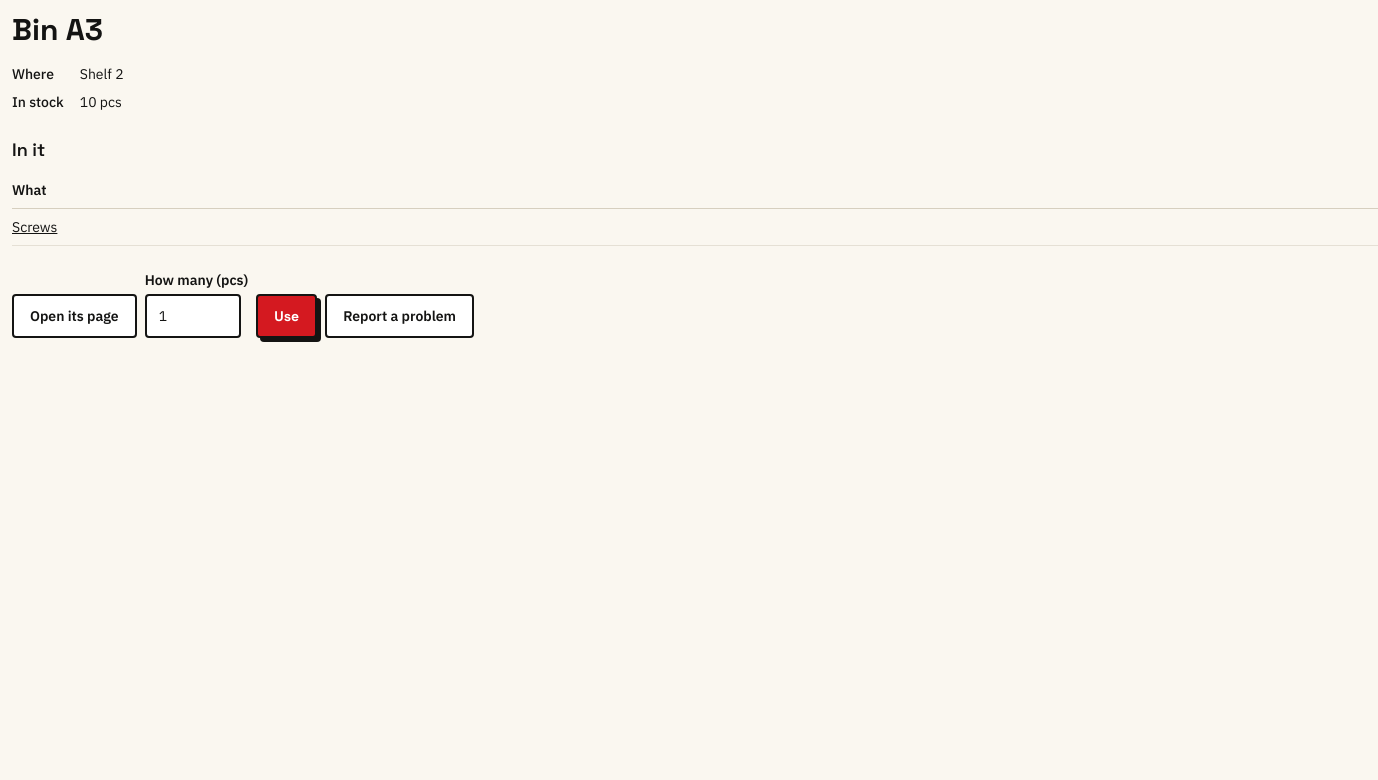
ScanPage › shows the template, and takes the quick actions it offers
Check: the text "Shelf 2" is shown, box x1=80 y1=65 x2=124 y2=83
Replace the text in the number field labelled "How many (pcs)" with "3": (193, 316) x1=145 y1=294 x2=241 y2=338
Click the button "Use": (287, 316) x1=256 y1=294 x2=317 y2=338
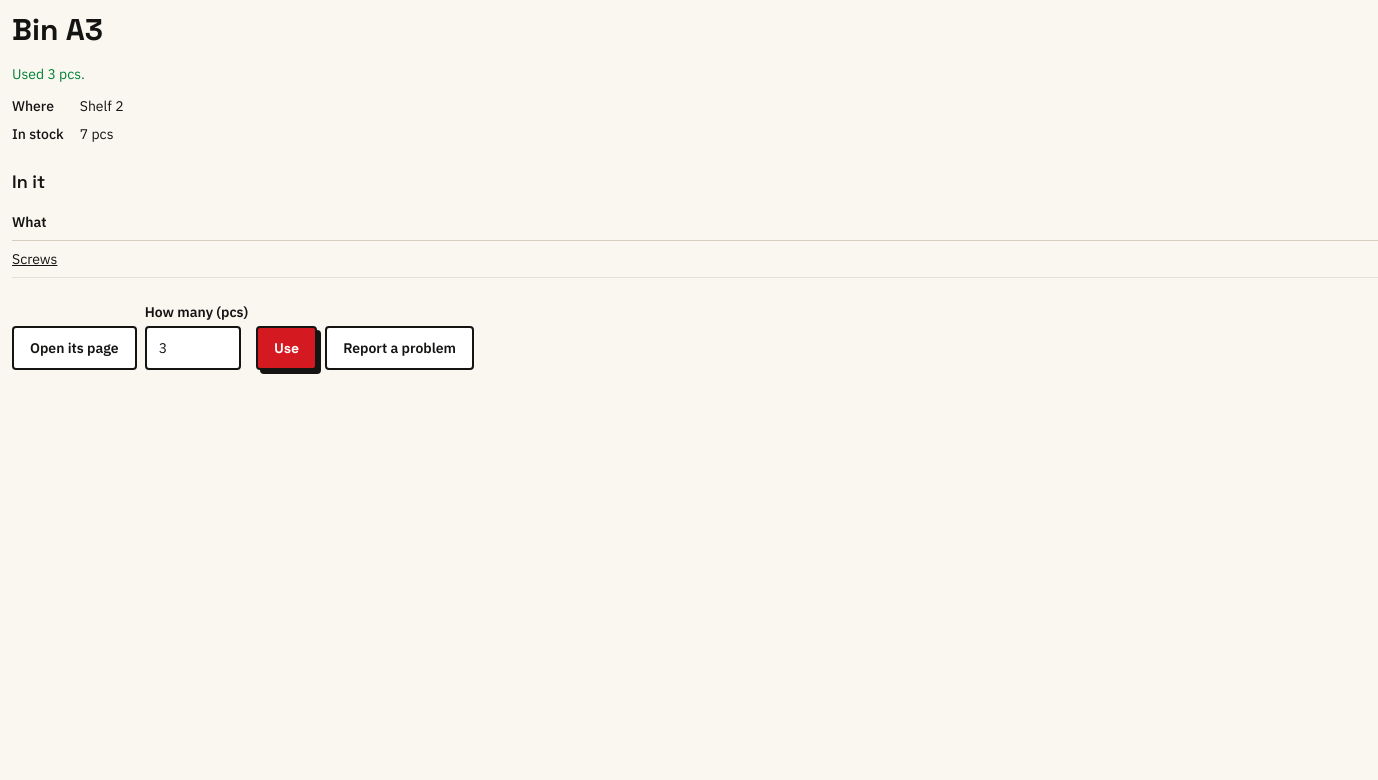
Check: the text "Used 3 pcs." is shown, box x1=12 y1=65 x2=85 y2=83
Check: the text "7 pcs" is shown, box x1=80 y1=125 x2=114 y2=143
Click the button "Report a problem": (400, 348) x1=325 y1=326 x2=474 y2=370
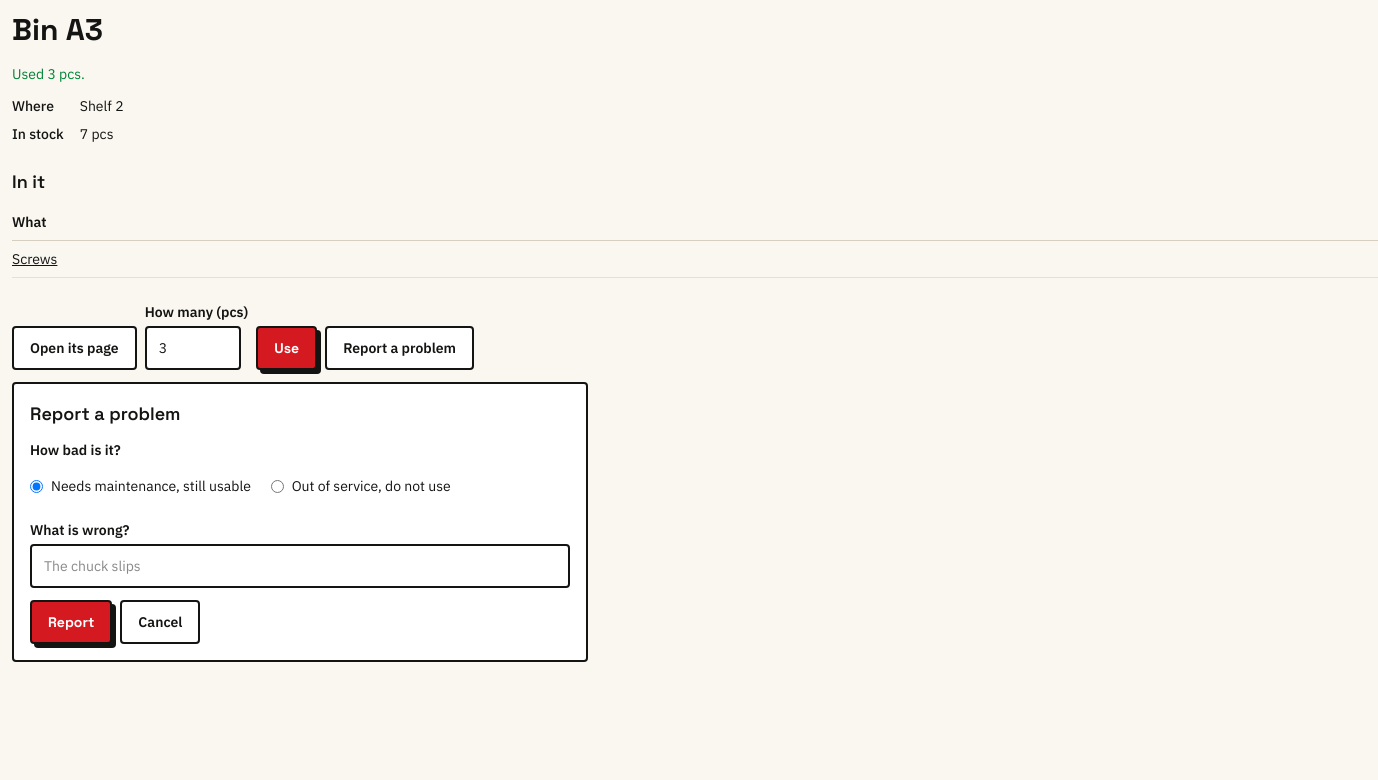
Click the radio button labelled "Out of service, do not use": (277, 486) x1=271 y1=480 x2=284 y2=492
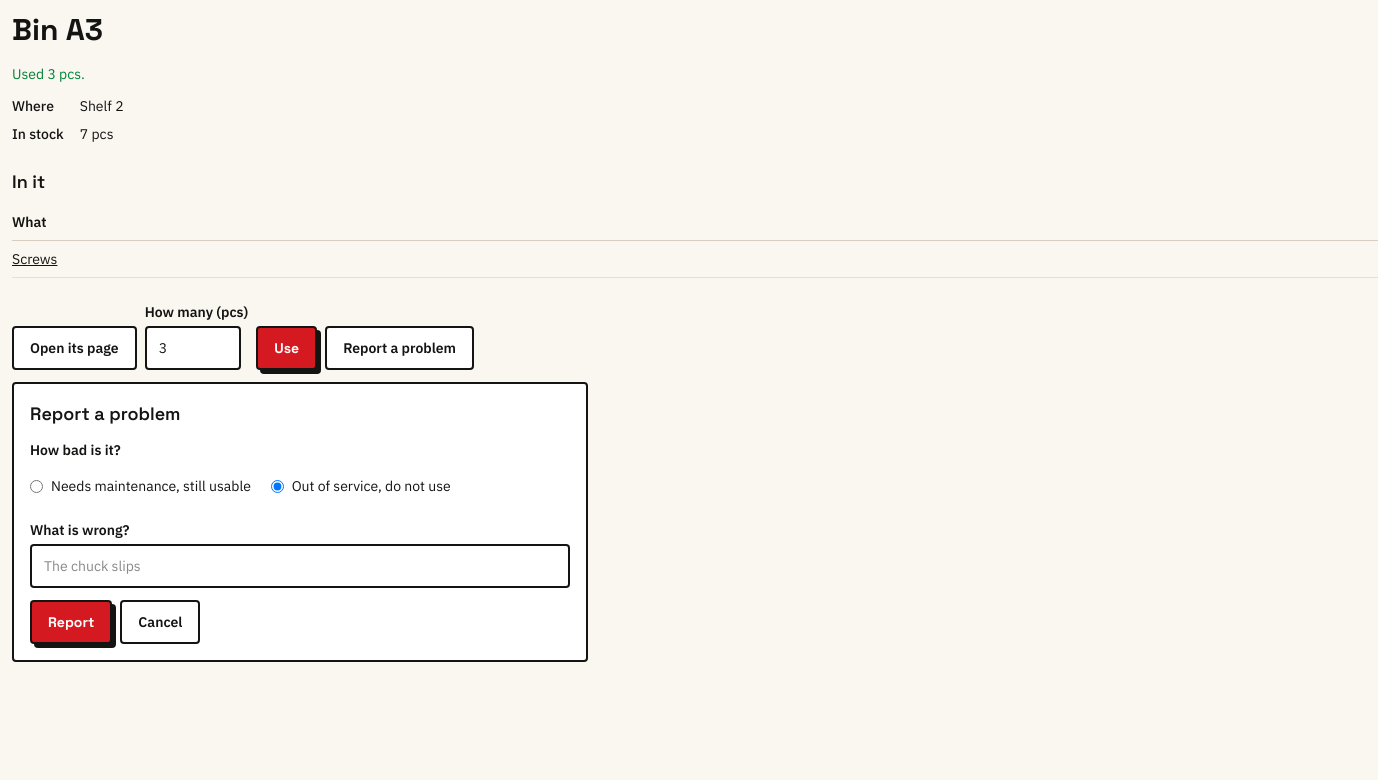
In the field labelled "What is wrong?": (300, 566) x1=30 y1=544 x2=570 y2=588, type "Lid cracked"
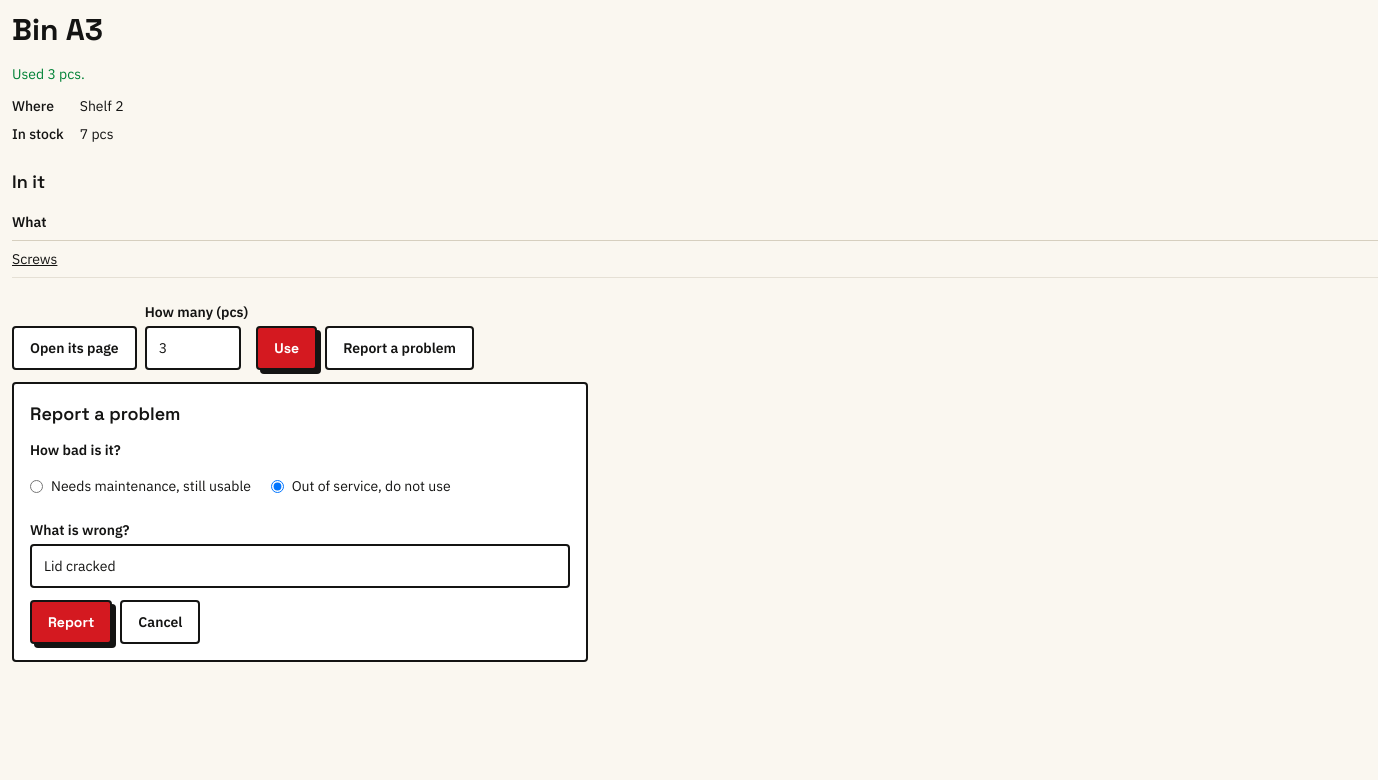
Click the button "Report": (71, 622) x1=30 y1=600 x2=112 y2=644
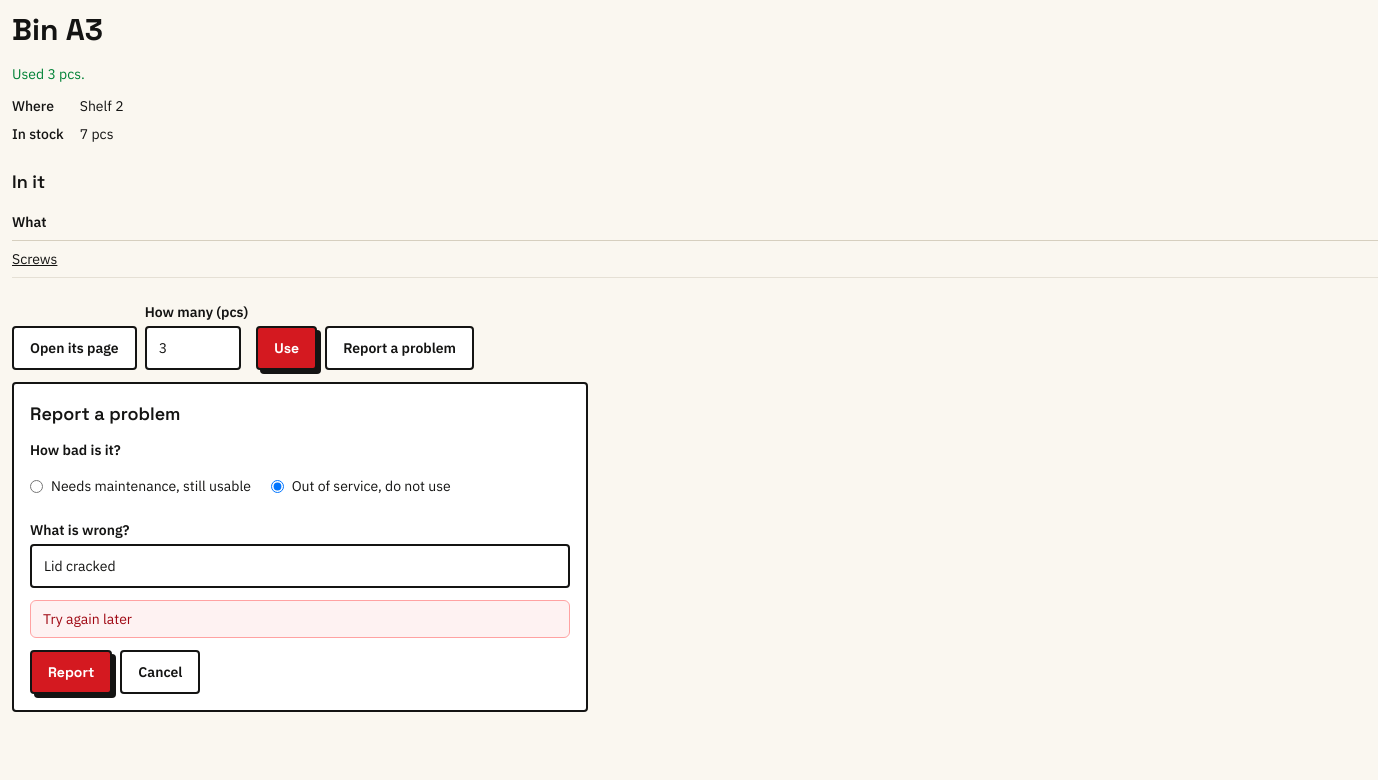
Check: the text "Try again later" is shown, box x1=30 y1=600 x2=570 y2=638
Click the button "Report": (71, 672) x1=30 y1=650 x2=112 y2=694
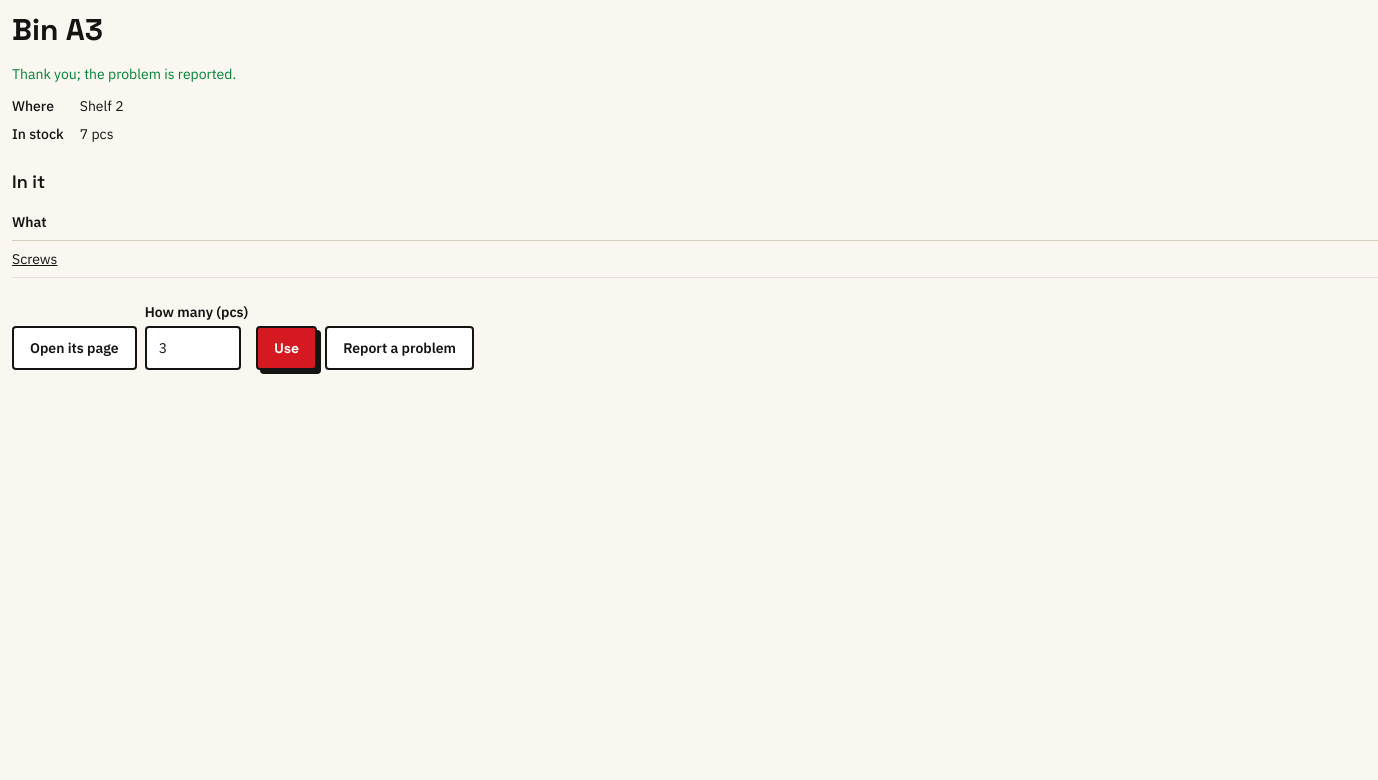
Check: the text "Thank you; the problem is reported." is shown, box x1=12 y1=65 x2=236 y2=83
Check: the label labelled "What is wrong?" is gone
